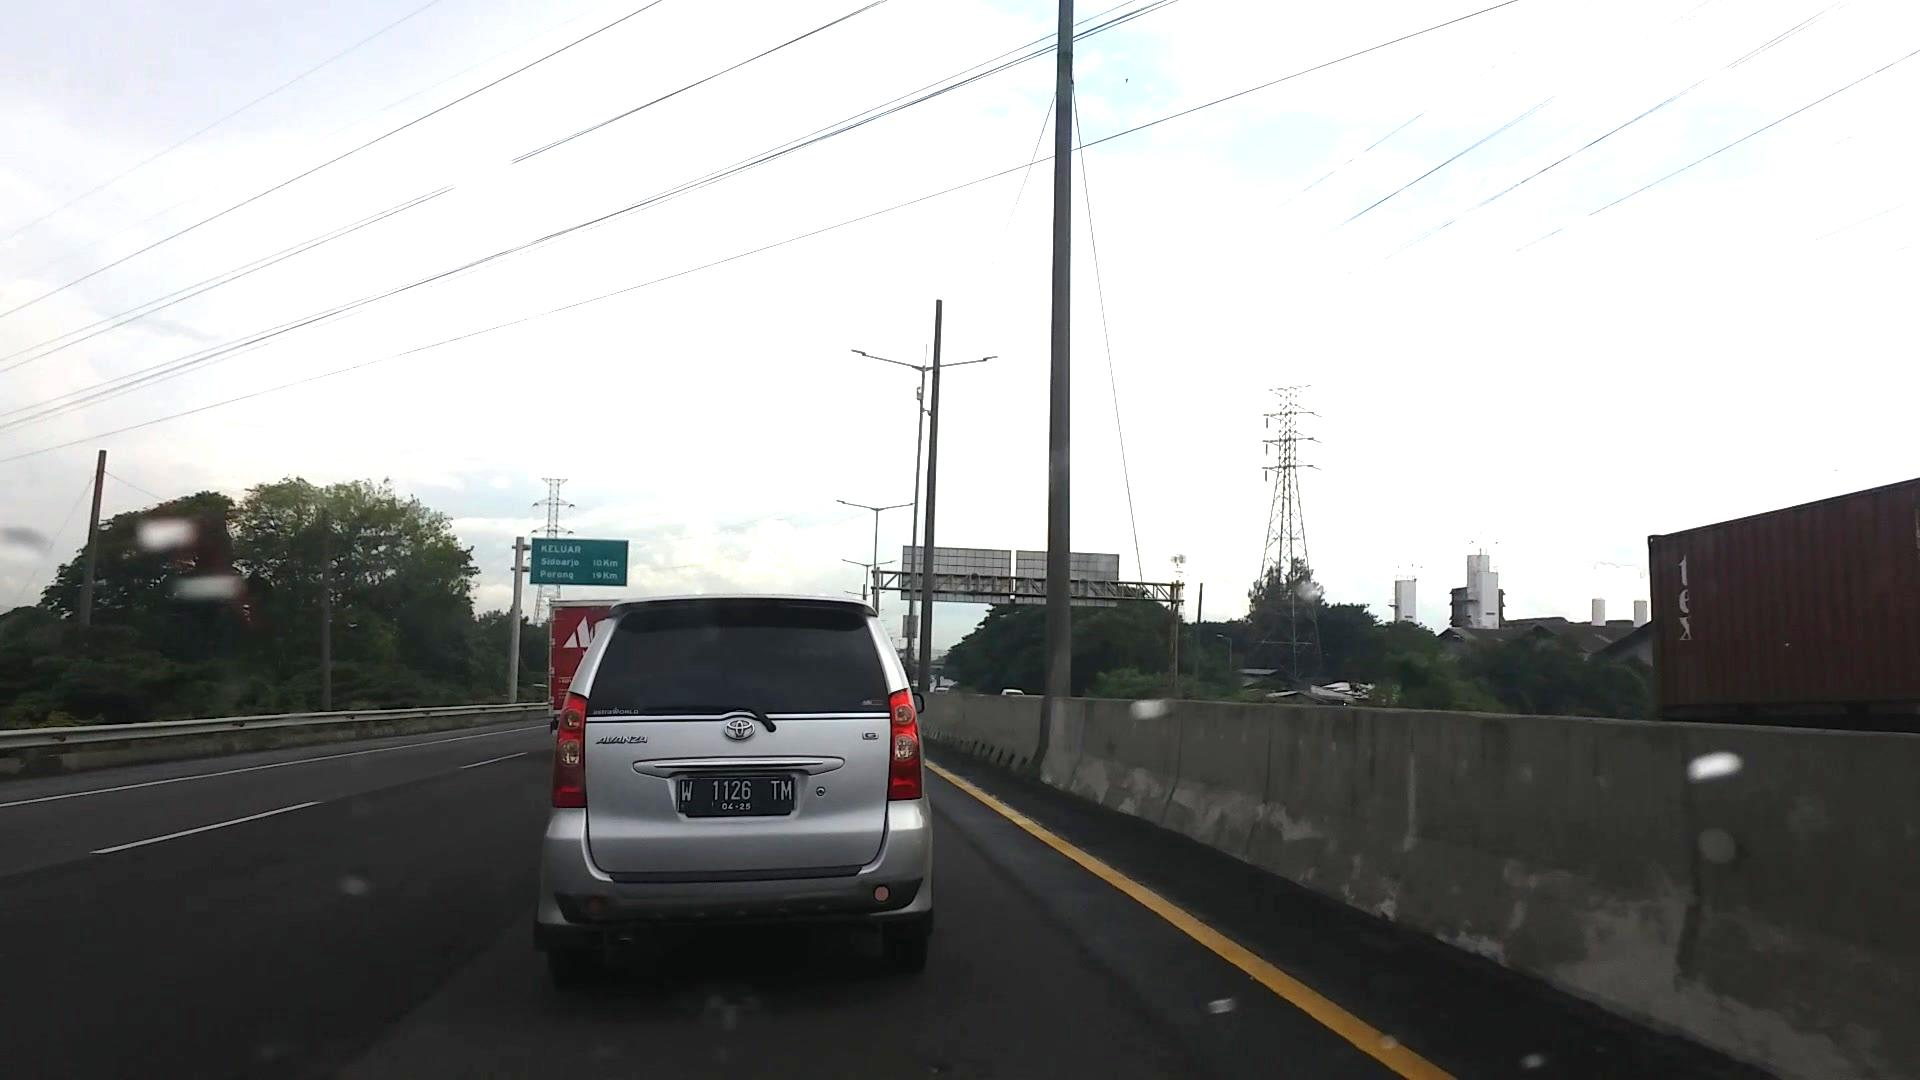plate_positive: (676, 775, 796, 816)
